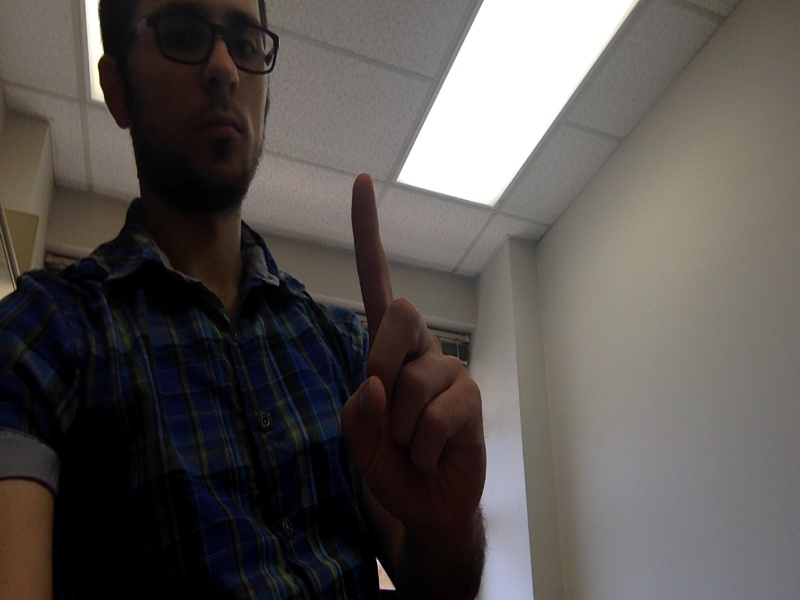1-hand: (341, 175, 491, 541)
